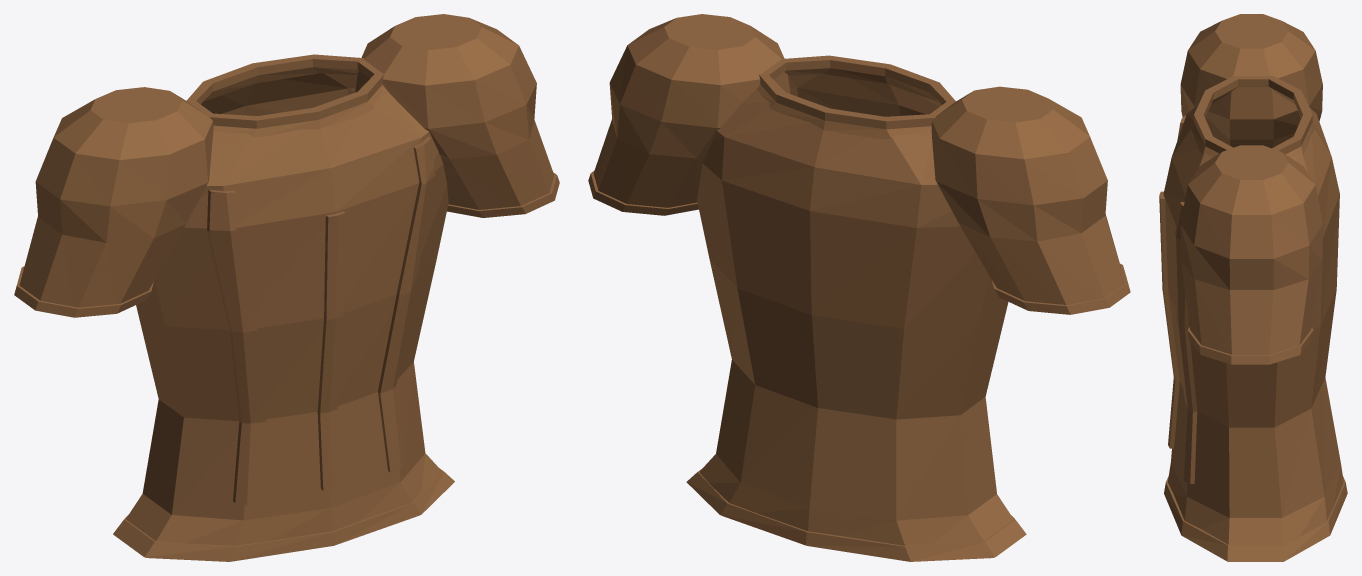
The model's file is leather_chest-male.glb.
3 renders of one model, left to right at view 1: azimuth 30°, elevation 25°; view 2: azimuth 150°, elevation 25°; view 3: azimuth 270°, elevation 25°, orthographic. The views are drawn at different scales.
Visible parts, largest first — view 1: leather tunic torso, leather upper sleeve -1, leather upper sleeve 1, Sewn tunic side facing -1, Fitted tunic neckline, Sewn tunic side facing 1, Bound tunic hem, Reinforced tunic closure, Sleeve cuff binding -1, Sleeve cuff binding 1; view 2: leather tunic torso, leather upper sleeve -1, leather upper sleeve 1, Fitted tunic neckline, Bound tunic hem, Sleeve cuff binding -1, Sleeve cuff binding 1; view 3: leather tunic torso, leather upper sleeve 1, leather upper sleeve -1, Fitted tunic neckline, Bound tunic hem, Sewn tunic side facing 1, Reinforced tunic closure, Sleeve cuff binding 1.
Part boxes in pixels (x1=…): leather tunic torso: x1=126, y1=73, x2=448, y2=561; leather upper sleeve -1: x1=19, y1=87, x2=213, y2=307; leather upper sleeve 1: x1=355, y1=14, x2=554, y2=209; Sewn tunic side facing -1: x1=207, y1=190, x2=266, y2=504; Fitted tunic neckline: x1=186, y1=54, x2=388, y2=137; Sewn tunic side facing 1: x1=378, y1=136, x2=435, y2=472; Bound tunic hem: x1=113, y1=468, x2=454, y2=561; Reinforced tunic closure: x1=317, y1=211, x2=345, y2=490; Sleeve cuff binding -1: x1=14, y1=266, x2=153, y2=317; Sleeve cuff binding 1: x1=447, y1=172, x2=559, y2=217; leather tunic torso: x1=697, y1=74, x2=1013, y2=561; leather upper sleeve -1: x1=931, y1=86, x2=1124, y2=304; leather upper sleeve 1: x1=593, y1=14, x2=790, y2=207; Fitted tunic neckline: x1=756, y1=55, x2=955, y2=139; Bound tunic hem: x1=686, y1=469, x2=1026, y2=561; Sleeve cuff binding -1: x1=992, y1=263, x2=1130, y2=314; Sleeve cuff binding 1: x1=588, y1=170, x2=698, y2=215; leather tunic torso: x1=1163, y1=105, x2=1343, y2=561; leather upper sleeve 1: x1=1180, y1=145, x2=1322, y2=354; leather upper sleeve -1: x1=1180, y1=14, x2=1322, y2=148; Fitted tunic neckline: x1=1191, y1=75, x2=1315, y2=157; Bound tunic hem: x1=1164, y1=475, x2=1347, y2=561; Sewn tunic side facing 1: x1=1175, y1=202, x2=1197, y2=483; Reinforced tunic closure: x1=1159, y1=191, x2=1179, y2=448; Sleeve cuff binding 1: x1=1187, y1=327, x2=1313, y2=364.
Size of the model in its own units: 3.36 by 2.71 by 1.16.
